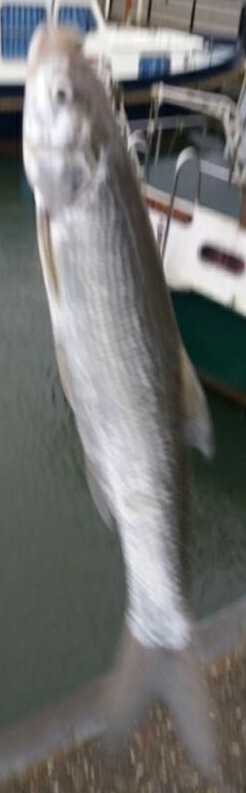Aspius aspius: (20, 20, 226, 773)
